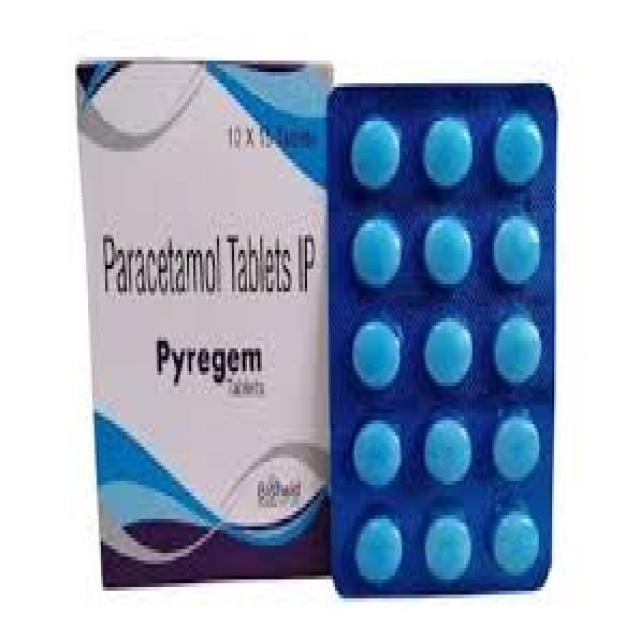authentic: (60, 49, 338, 594), (327, 79, 555, 596)
